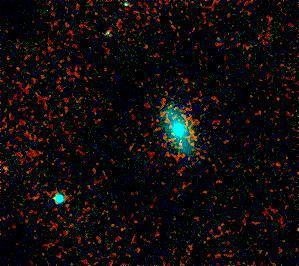star: (92, 16, 122, 46)
